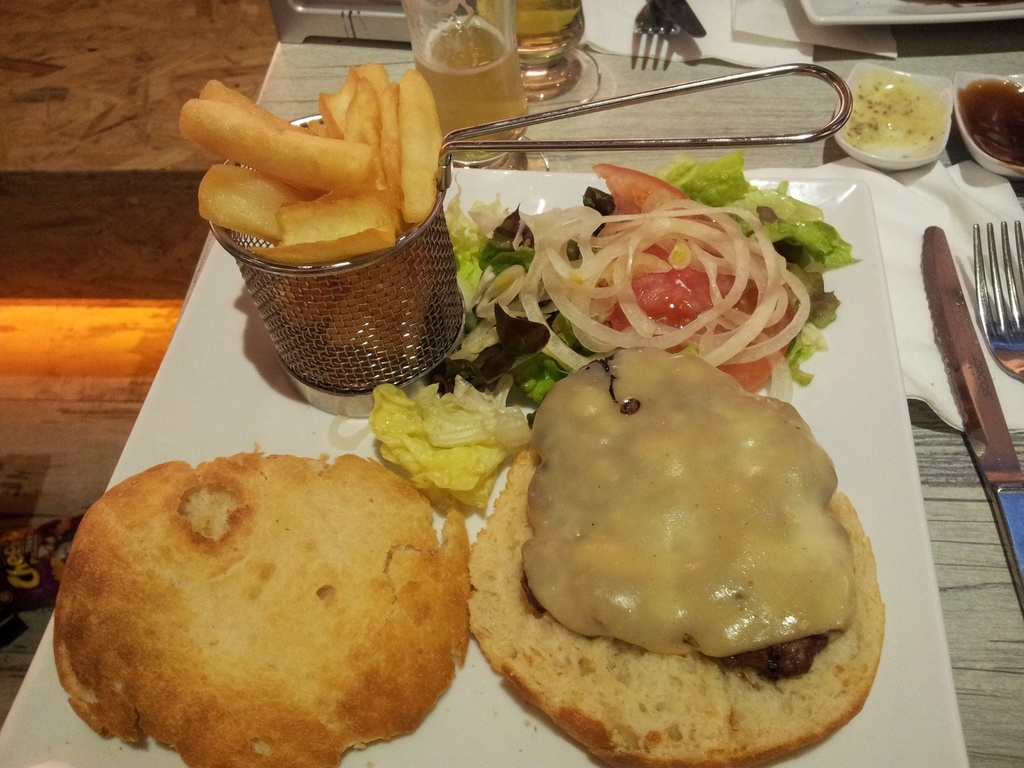French fries: (165, 58, 469, 251)
